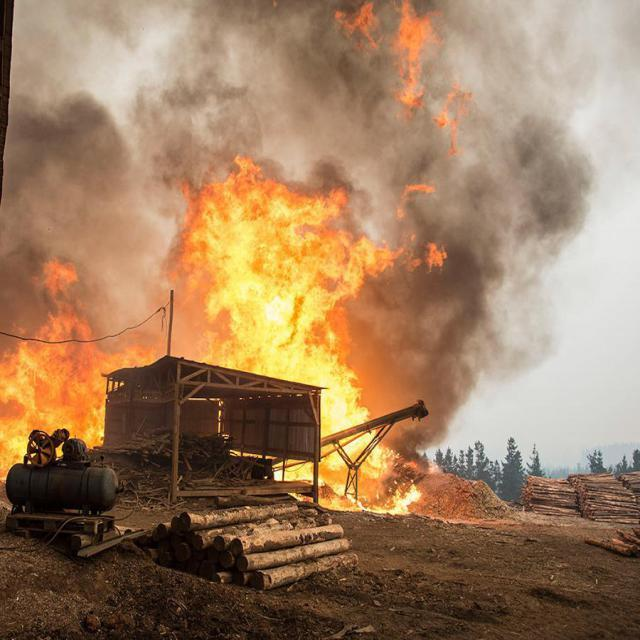Fire: (172, 156, 470, 477), (2, 233, 161, 478), (328, 4, 480, 163), (318, 483, 420, 512)
Smoke: (13, 4, 322, 150), (468, 6, 591, 369), (344, 303, 480, 443)
